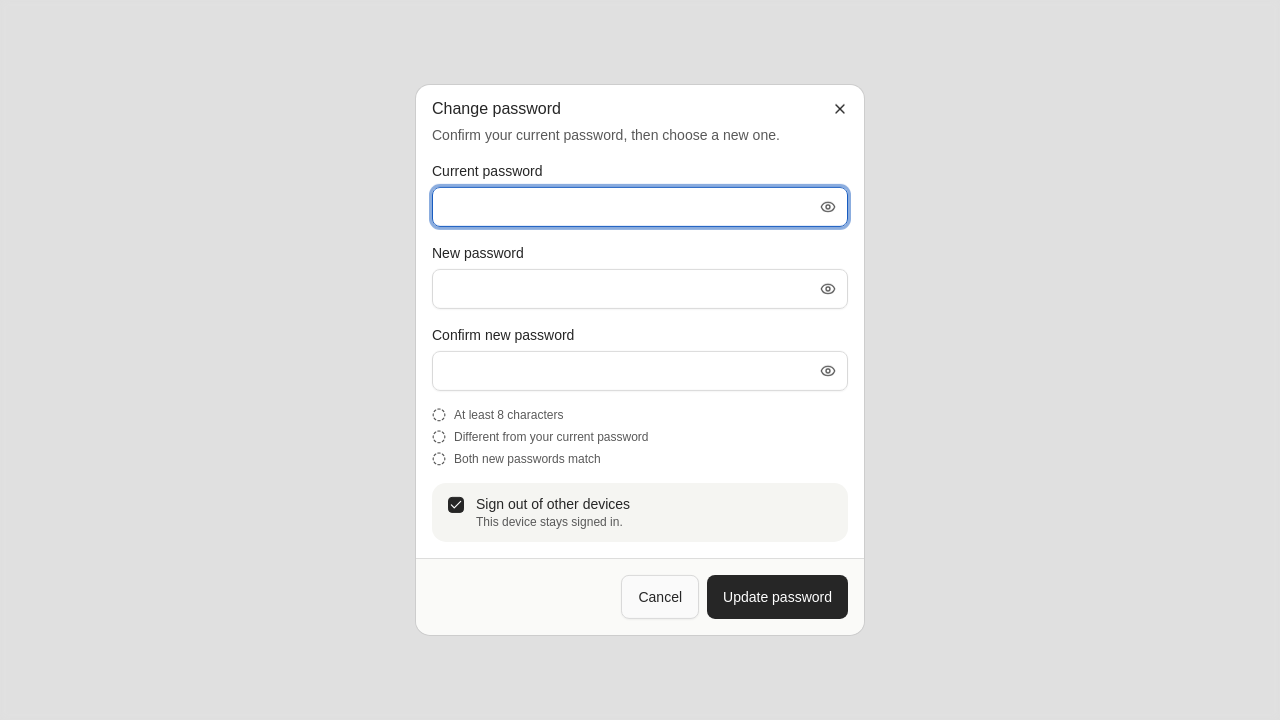
Test: ChangePasswordDialog › shows a field error when the current password is wrong
This screenshot has width=1280, height=720.
In the password field labelled "Current password": (640, 207) [432, 187, 848, 227], type "Current-Secret-1"
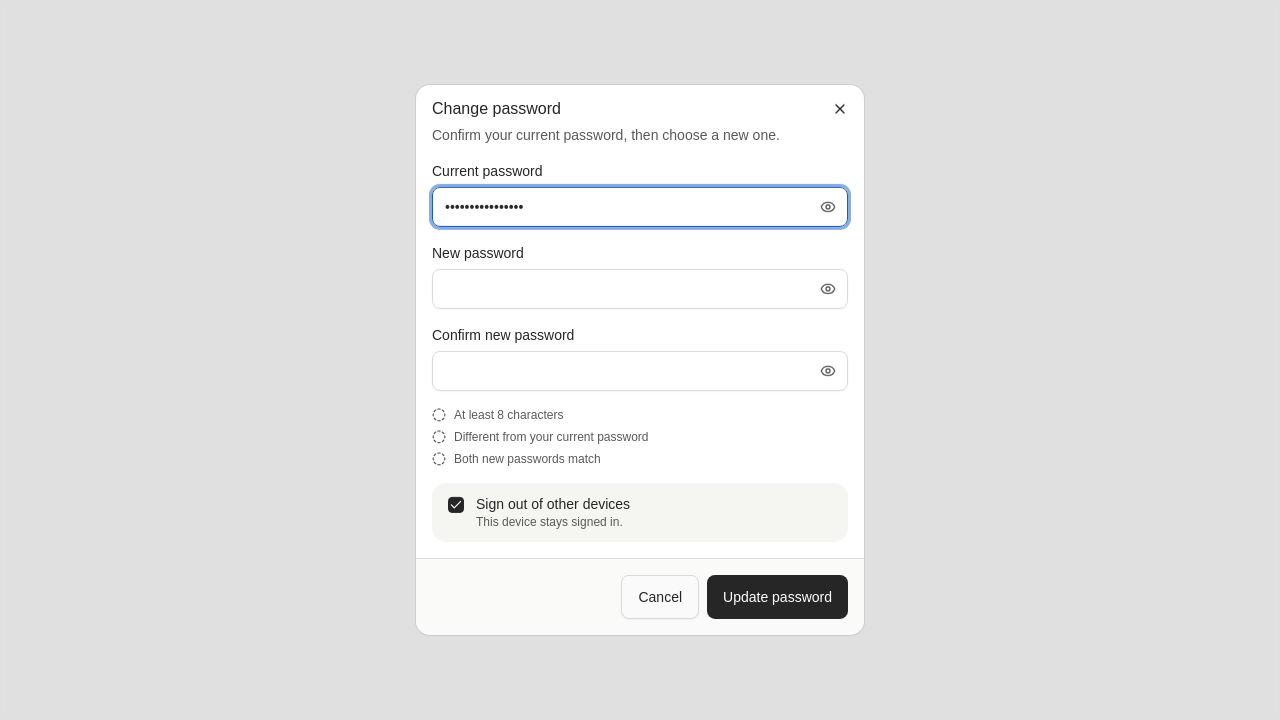
In the password field labelled "New password": (640, 289) [432, 269, 848, 309], type "Brand-New-Secret-2"
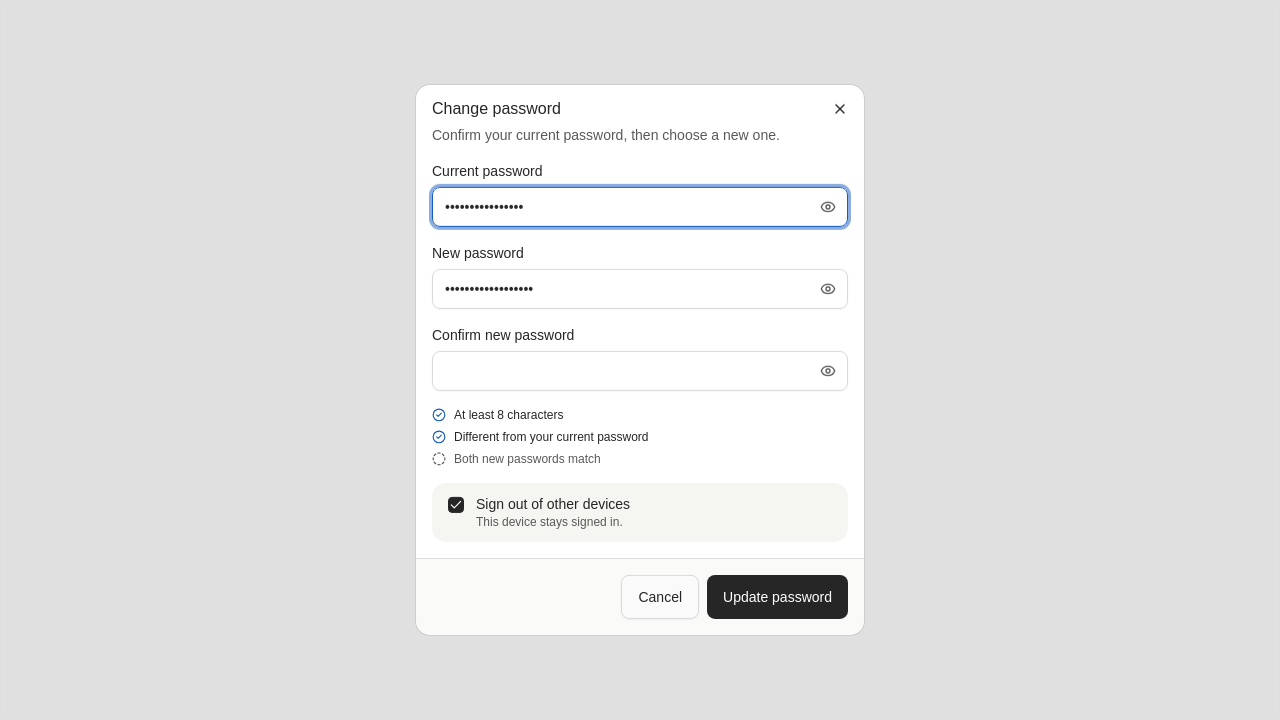
In the password field labelled "Confirm new password": (640, 371) [432, 351, 848, 391], type "Brand-New-Secret-2"
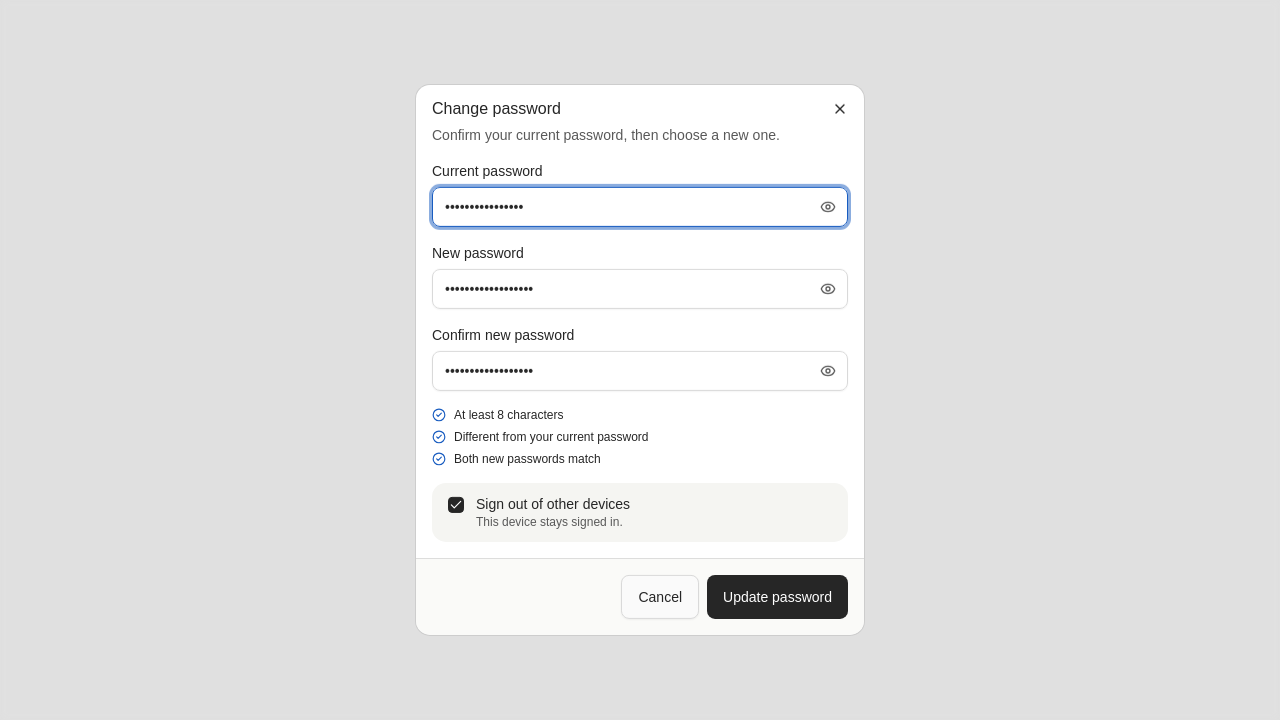
Click the button "Update password": (778, 597) [707, 575, 848, 619]
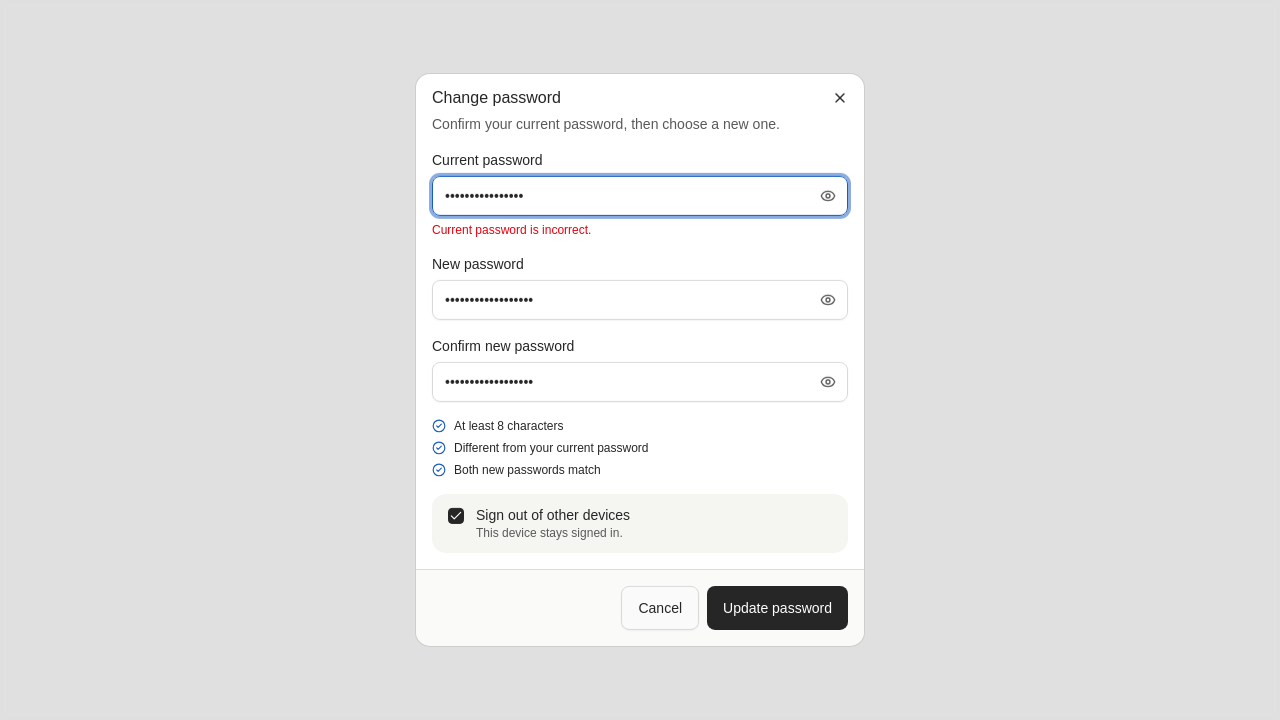
Result: the text "Current password is incorrect." is shown at [432, 223, 591, 237]
